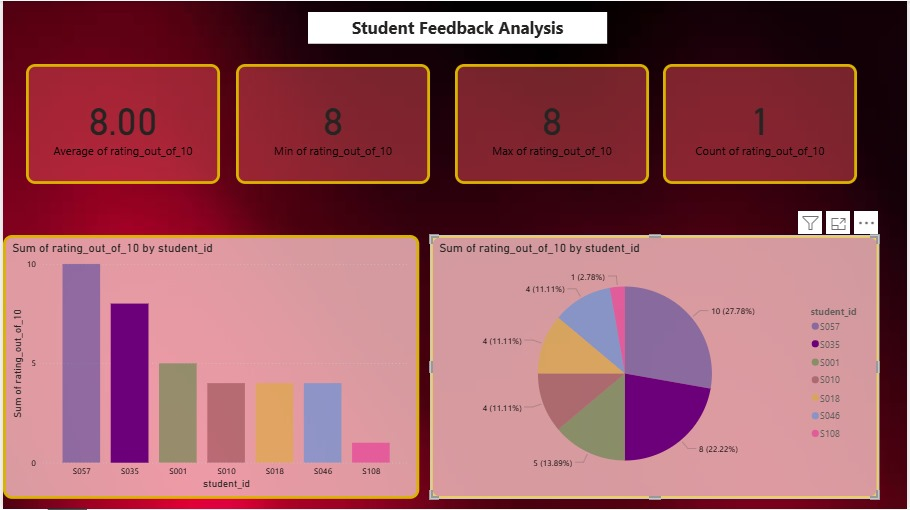

What the dashboard file says about the page in this screenshot:
{"tool":"powerbi","page":{"name":"Page 1","canvas":[1280,720],"ordinal":0},"visuals":[{"type":"textbox","box":[432.4,15.6,423.8,45],"z":0},{"type":"columnChart","fields":{"Category":["student_feedback_dataset.student_id"],"Y":["Sum(student_feedback_dataset.rating_out_of_10)"]},"box":[0,332.1,589.8,373.6],"z":1},{"type":"pieChart","fields":{"Category":["student_feedback_dataset.student_id"],"Y":["Sum(student_feedback_dataset.rating_out_of_10)"]},"box":[605.4,332.1,636.5,373.6],"z":2},{"type":"card","fields":{"Values":["Avg(student_feedback_dataset.rating_out_of_10)"]},"box":[32.9,89.9,275,169.5],"z":3},{"type":"card","fields":{"Values":["Min(student_feedback_dataset.rating_out_of_10)"]},"box":[330.4,89.9,275,169.5],"z":4},{"type":"card","fields":{"Values":["Max(student_feedback_dataset.rating_out_of_10)"]},"box":[640,89.9,275,169.5],"z":5},{"type":"card","fields":{"Values":["CountNonNull(student_feedback_dataset.rating_out_of_10)"]},"box":[935.8,89.9,275,169.5],"z":6}]}

Visuals, with their boxes in screenshot pixels (x1, y1, x2, y2), scaled from the page's 1280x720 canvas onto the 910x510 screenshot:
textbox: x1=307, y1=11, x2=609, y2=43
columnChart - student_feedback_dataset.student_id x Sum(student_feedback_dataset.rating_out_of_10): x1=0, y1=235, x2=419, y2=500
pieChart - student_feedback_dataset.student_id x Sum(student_feedback_dataset.rating_out_of_10): x1=430, y1=235, x2=883, y2=500
card - Avg(student_feedback_dataset.rating_out_of_10): x1=23, y1=64, x2=219, y2=184
card - Min(student_feedback_dataset.rating_out_of_10): x1=235, y1=64, x2=430, y2=184
card - Max(student_feedback_dataset.rating_out_of_10): x1=455, y1=64, x2=651, y2=184
card - CountNonNull(student_feedback_dataset.rating_out_of_10): x1=665, y1=64, x2=861, y2=184
